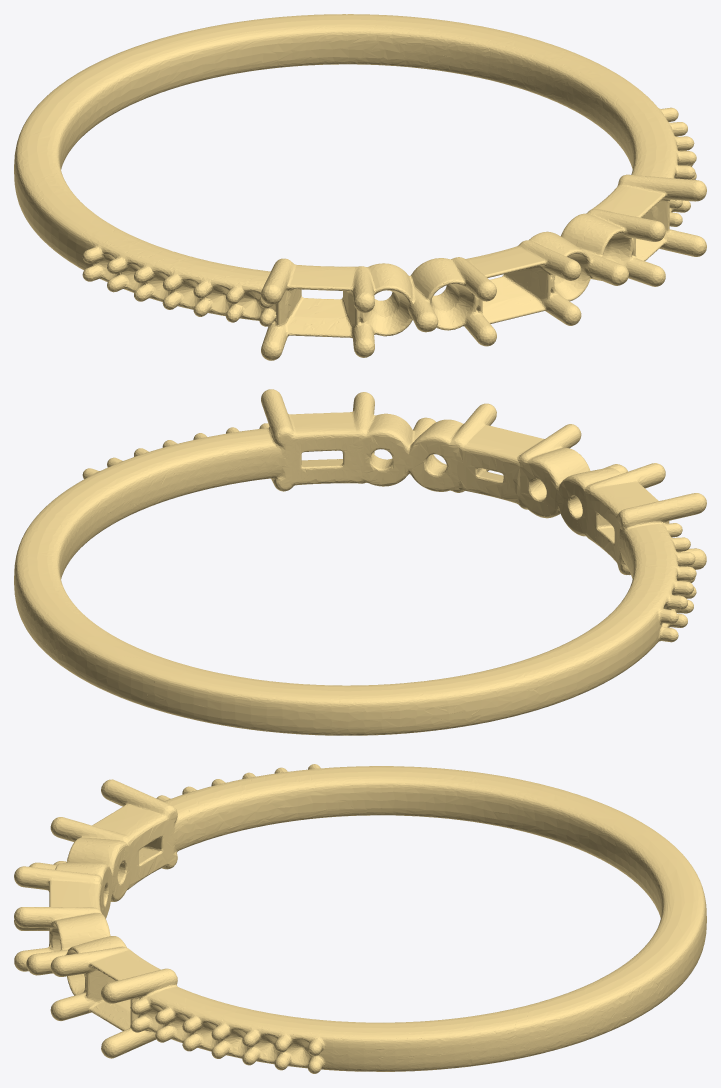
File: patterned-band.glb
3 renders of one model, top to bottom at view 1: azimuth 30°, elevation 25°; view 2: azimuth 150°, elevation 25°; view 3: azimuth 270°, elevation 25°, orthographic.
Visible parts, largest first — view 1: Metal Yellow Gold; view 2: Metal Yellow Gold; view 3: Metal Yellow Gold.
Part boxes in pixels (x1,y1,x2,y2): Metal Yellow Gold: [14, 14, 706, 360]; Metal Yellow Gold: [14, 389, 706, 735]; Metal Yellow Gold: [14, 764, 706, 1073].
Size of the model in its own units: 19.07 by 2.3 by 19.64.
